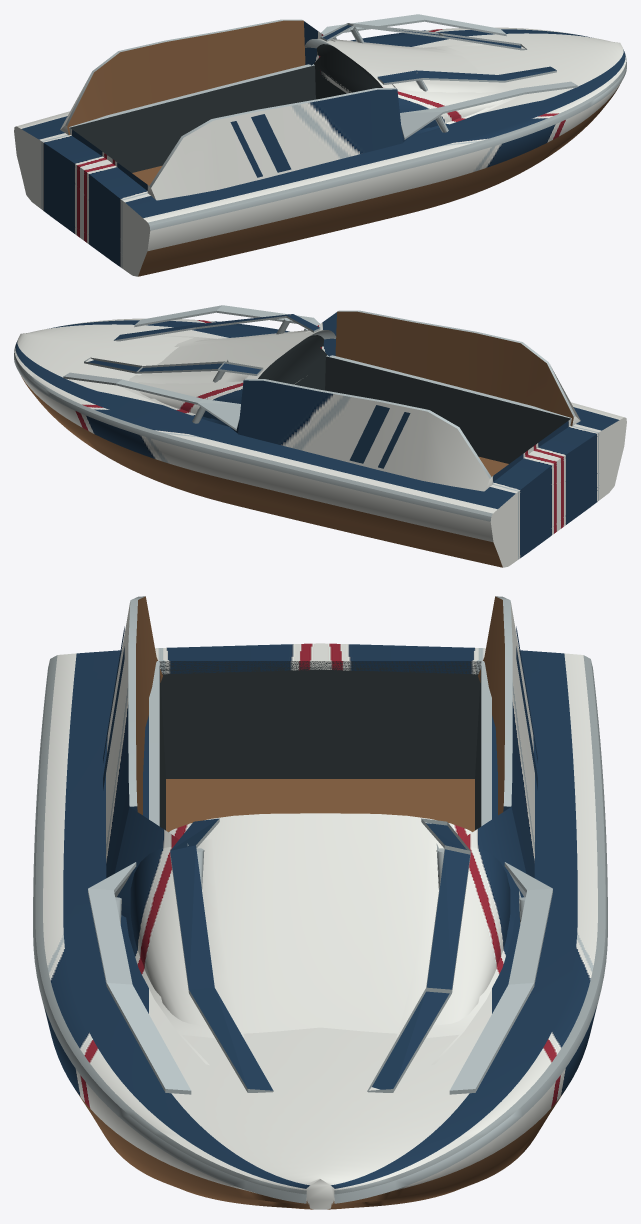
Rendered from Hull_24_SSR_白銀・三段返し.glb.
3 views of the same model, one above another, from view 1: azimuth 30°, elevation 25°; view 2: azimuth 150°, elevation 25°; view 3: azimuth 270°, elevation 25° (orthographic). The views are drawn at different scales.
Parts seen in each view (by area): view 1: Hull_24_SSR; view 2: Hull_24_SSR; view 3: Hull_24_SSR.
Part boxes in pixels (bbox=[...]): Hull_24_SSR: bbox=[14, 14, 626, 276]; Hull_24_SSR: bbox=[14, 305, 626, 567]; Hull_24_SSR: bbox=[33, 596, 607, 1209].
Bounding box in the file's own units: 2.9 × 0.6856 × 1.34.
4 materials, 4 textured.
